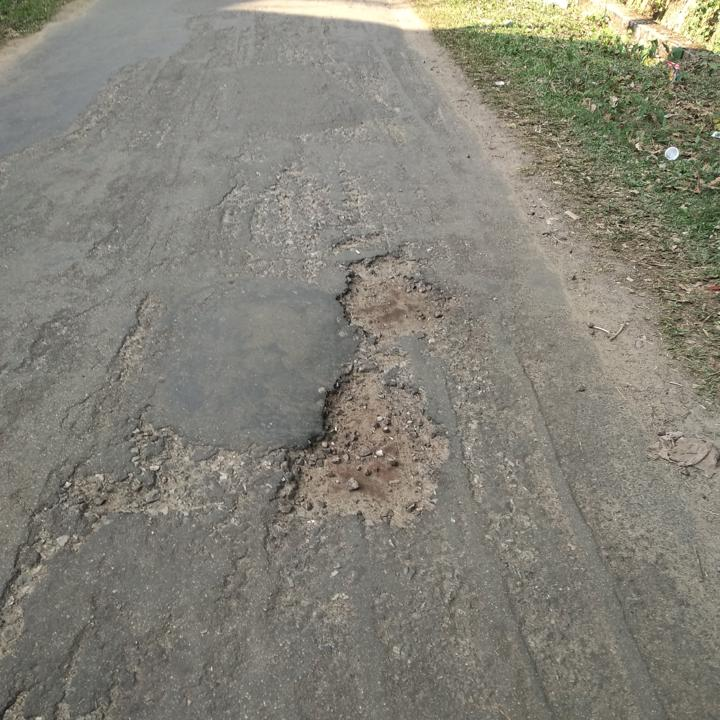pothole: (282, 362, 454, 528), (60, 428, 228, 522), (337, 244, 451, 337)
